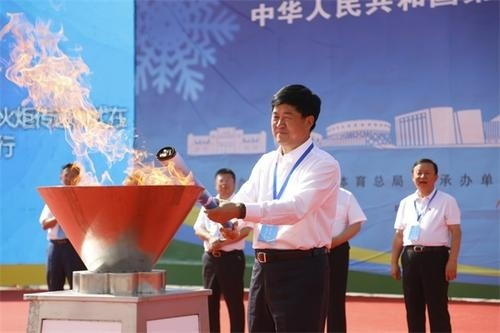fire: (0, 8, 194, 188)
